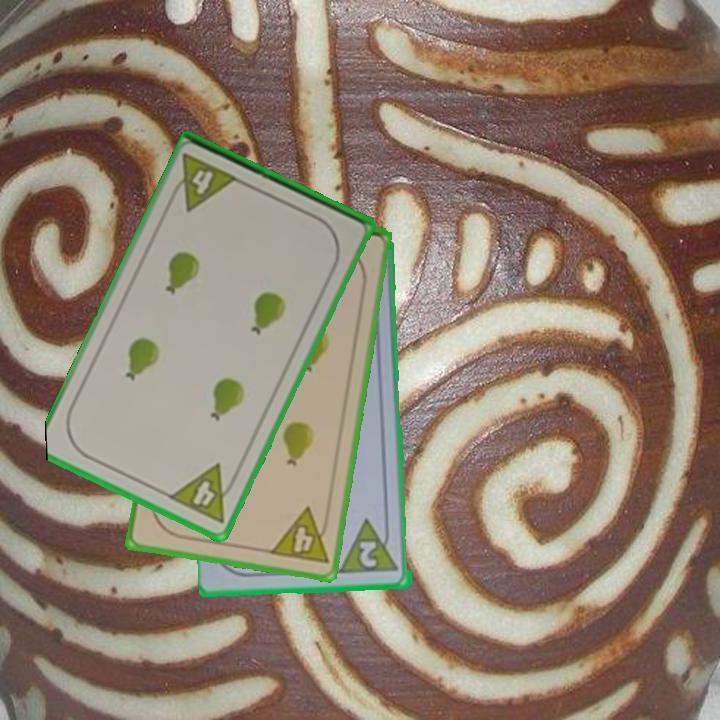2p: (356, 538, 382, 571)
4p: (165, 460, 242, 527), (165, 150, 242, 214), (266, 504, 334, 568)
